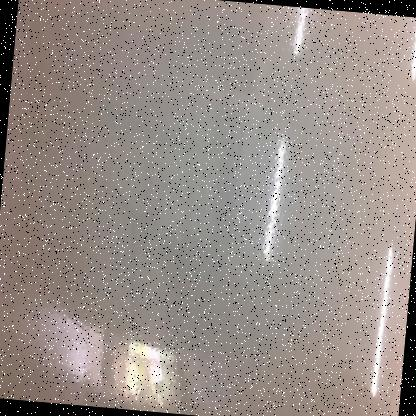Nocrack: (5, 12, 412, 413)
